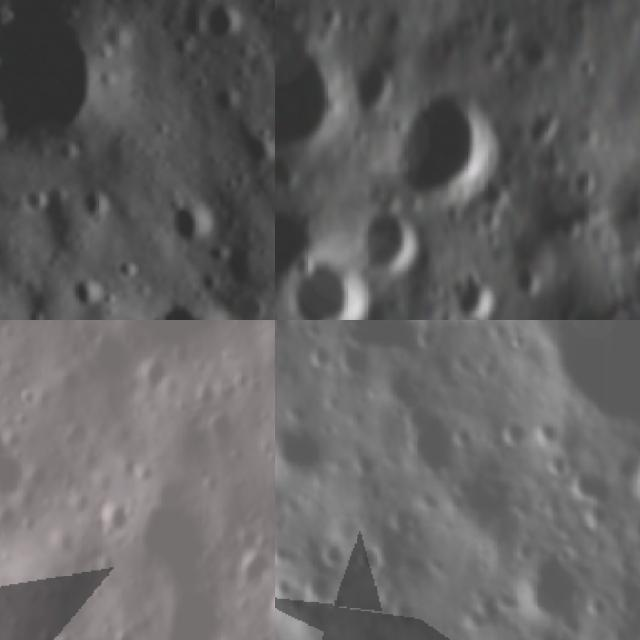crater: (0, 0, 149, 190), (122, 465, 258, 588), (389, 82, 503, 202), (118, 269, 264, 320), (275, 30, 337, 150), (501, 558, 586, 626), (360, 200, 434, 274), (290, 256, 372, 320), (178, 0, 258, 60), (114, 320, 237, 358), (158, 178, 224, 248), (275, 194, 327, 269), (54, 264, 111, 320), (452, 267, 504, 320), (353, 49, 395, 114), (560, 460, 610, 512), (74, 176, 120, 228), (519, 101, 566, 148), (230, 123, 275, 172), (226, 279, 275, 320), (514, 256, 552, 305), (520, 25, 557, 73), (0, 456, 28, 508), (567, 163, 602, 200), (626, 450, 640, 505)
